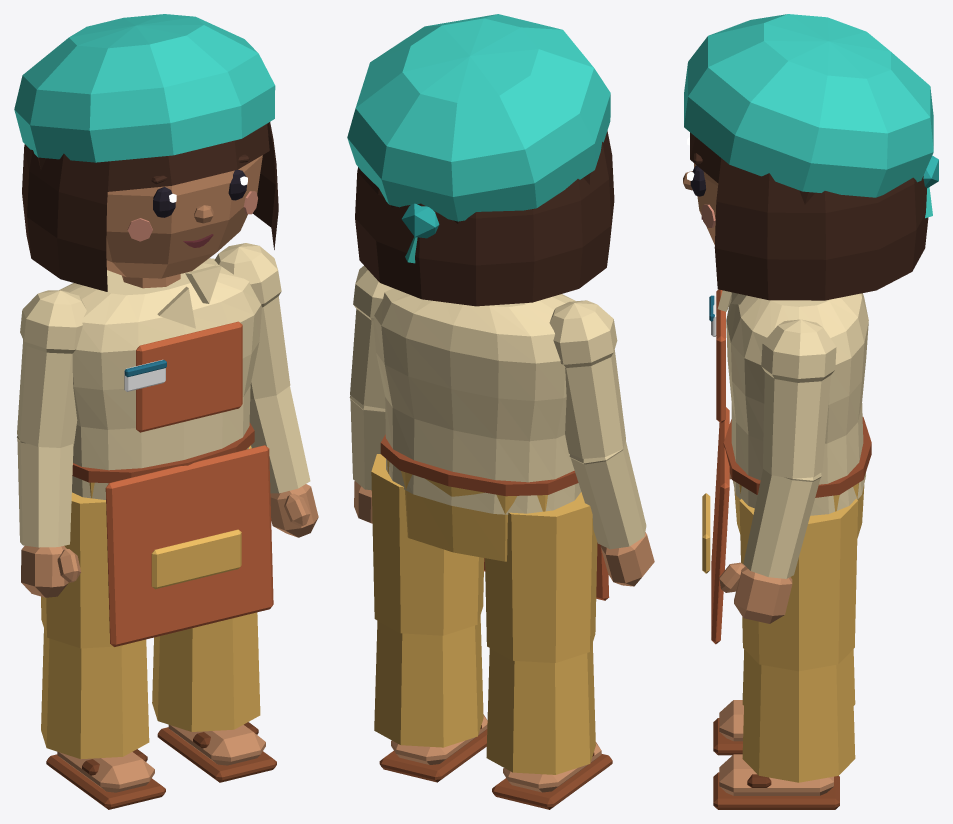
File: kas_dun.glb
3 renders of one model, left to right at view 1: azimuth 30°, elevation 25°; view 2: azimuth 150°, elevation 25°; view 3: azimuth 270°, elevation 25°, orthographic.
Parts seen in each view (by area): view 1: schürze, kopfbedeckung, torso, bein_r, haare, arm_r, bein_l, kopf, arm_l, schuh_l, schuh_r, hand_r (+4 smaller); view 2: kopfbedeckung, torso, bein_r, bein_l, haare, arm_r, arm_l, becken, schürze, schuh_r, schuh_l, hand_r (+1 smaller); view 3: kopfbedeckung, bein_l, haare, arm_l, torso, schürze, schuh_l, hand_l, schuh_r, gesicht, kopf, becken.
Boxes of the visible parts, <box> form: schürze: <box>72,321,273,646</box>; kopfbedeckung: <box>14,14,275,162</box>; torso: <box>59,258,261,499</box>; bein_r: <box>41,492,149,759</box>; haare: <box>22,122,278,291</box>; arm_r: <box>17,290,86,547</box>; bein_l: <box>152,445,260,731</box>; kopf: <box>106,155,262,278</box>; arm_l: <box>214,243,310,493</box>; schuh_l: <box>157,722,276,782</box>; schuh_r: <box>46,749,165,809</box>; hand_r: <box>21,545,81,597</box>; kopfbedeckung: <box>347,14,610,263</box>; torso: <box>373,288,581,514</box>; bein_r: <box>485,492,597,774</box>; bein_l: <box>371,454,484,747</box>; haare: <box>355,131,614,306</box>; arm_r: <box>549,300,646,549</box>; arm_l: <box>349,266,393,490</box>; becken: <box>387,460,547,561</box>; schürze: <box>380,434,609,600</box>; schuh_r: <box>492,742,612,809</box>; schuh_l: <box>379,715,487,782</box>; hand_r: <box>600,532,654,586</box>; kopfbedeckung: <box>684,14,938,218</box>; bein_l: <box>739,499,858,782</box>; haare: <box>690,132,928,300</box>; arm_l: <box>743,319,836,578</box>; torso: <box>726,293,868,515</box>; schürze: <box>702,289,871,644</box>; schuh_l: <box>713,754,839,809</box>; hand_l: <box>719,562,792,623</box>; schuh_r: <box>713,700,743,755</box>; gesicht: <box>683,137,715,227</box>; kopf: <box>694,163,718,244</box>; becken: <box>734,483,864,538</box>.
Size of the model in its own units: 0.0103 by 0.0252 by 0.00792.
